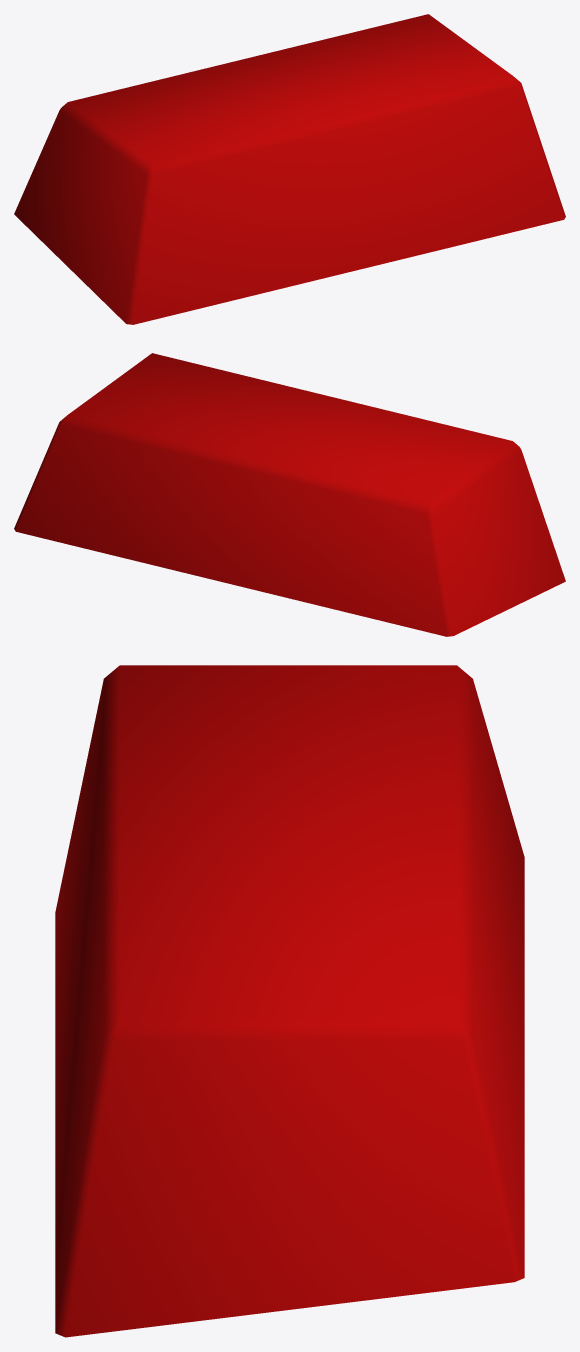
File: enterLeftShift.fbx
3 renders of one model, top to bottom at view 1: azimuth 30°, elevation 25°; view 2: azimuth 150°, elevation 25°; view 3: azimuth 270°, elevation 25°, orthographic. The views are drawn at different scales.
Parts seen in each view (by area): view 1: Empty_Mesh; view 2: Empty_Mesh; view 3: Empty_Mesh.
Part boxes in pixels (left/top/right/bottom): Empty_Mesh: left=14, top=14, right=565, bottom=324; Empty_Mesh: left=14, top=353, right=565, bottom=636; Empty_Mesh: left=55, top=665, right=524, bottom=1337.
Size of the model in its own units: 4.02 by 1.23 by 1.86.
